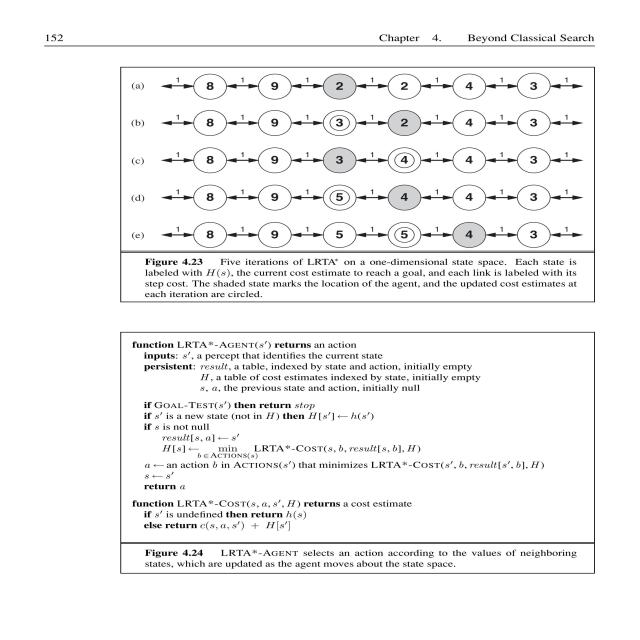diagram: (117, 55, 633, 313)
